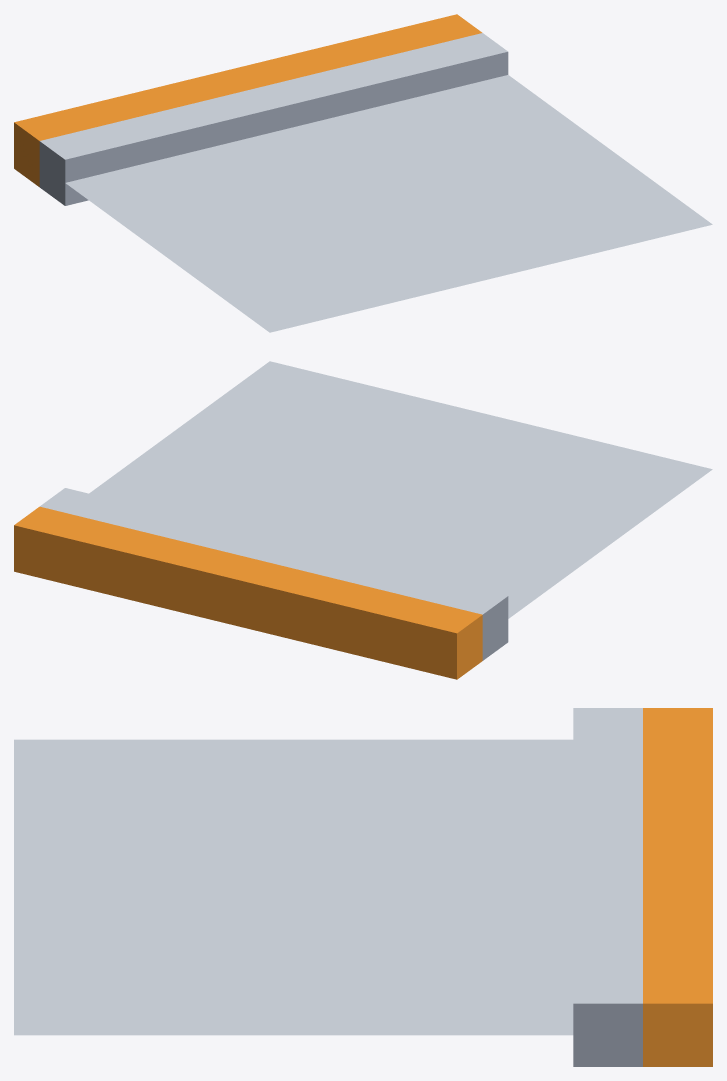
The model's file is platform_side.glb.
3 renders of one model, top to bottom at view 1: azimuth 30°, elevation 25°; view 2: azimuth 150°, elevation 25°; view 3: azimuth 270°, elevation 25°, orthographic. The views are drawn at different scales.
Visible parts, largest first — view 1: platform_side; view 2: platform_side; view 3: platform_side.
Boxes of the visible parts, box(x1,y1,x2,y2) form: platform_side: box(14, 14, 712, 332); platform_side: box(14, 361, 712, 679); platform_side: box(14, 708, 712, 1066).
Bounding box in the file's own units: 1 × 0.1 × 1.
